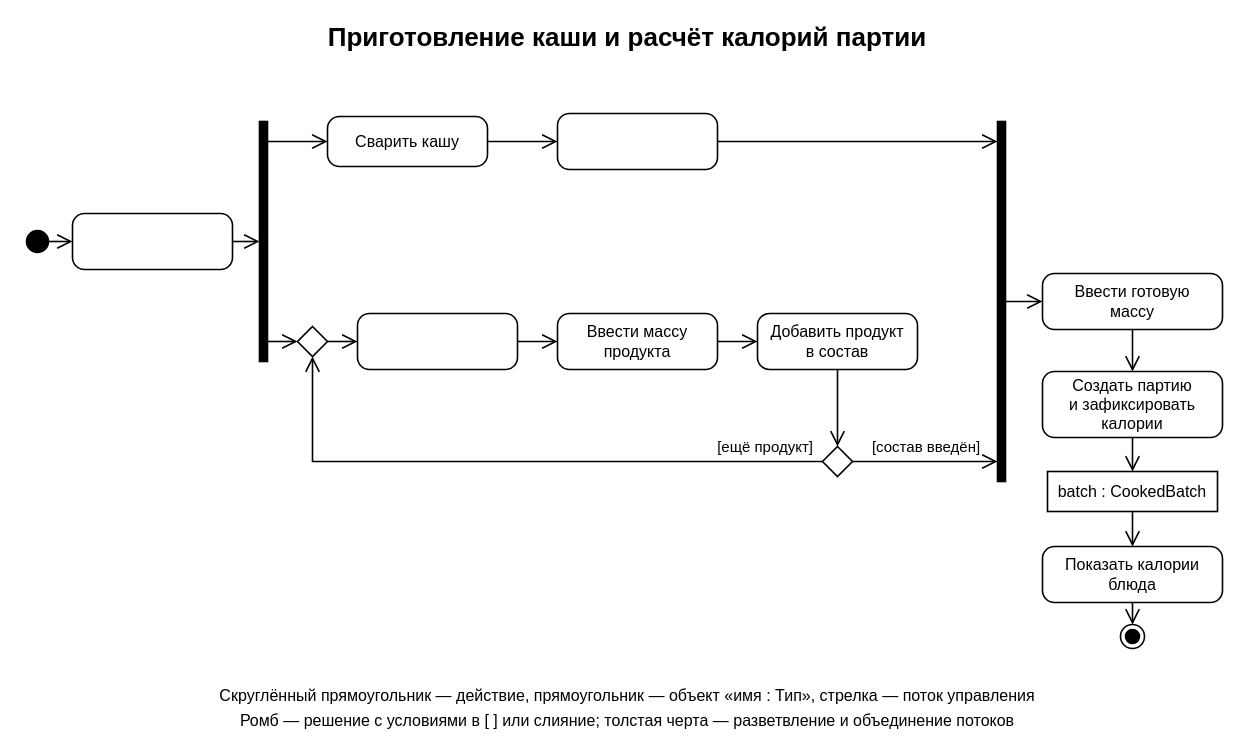
Some shapes in this 1254 by 749 pixel diagram are drawn without their labels. Each missing label, with the centre of its shape:
Ввести название блюда: the point at 152,241
Взвесить готовую кашу: the point at 637,141
Выбрать продукт из каталога: the point at 437,341
